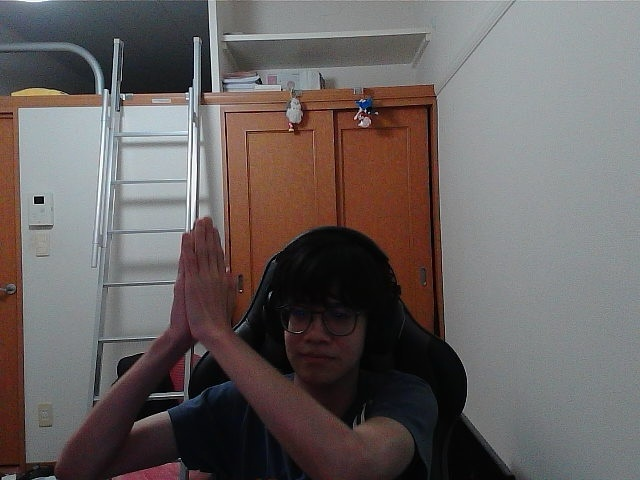pray: (194, 221, 226, 327)
